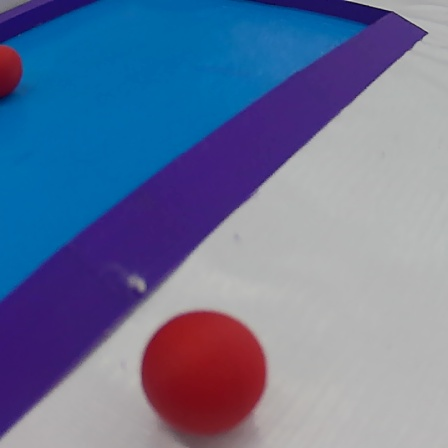blue_aim: (2, 0, 437, 443)
red: (138, 305, 277, 438)
